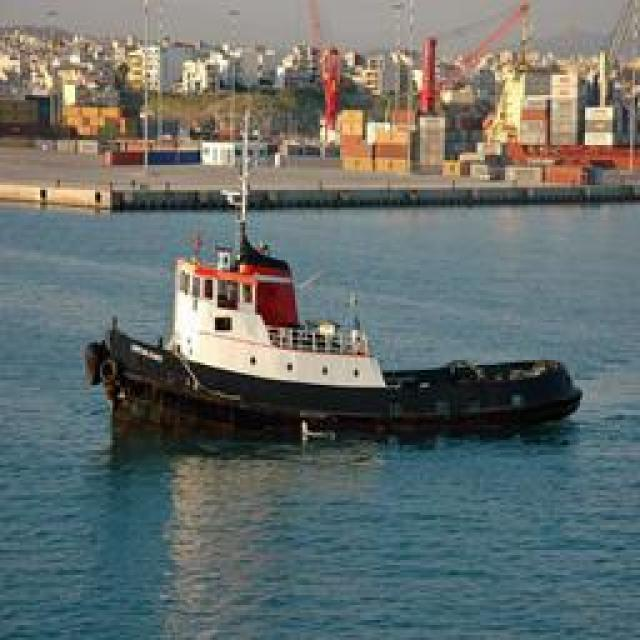CIV_Ship: (88, 118, 396, 428)
